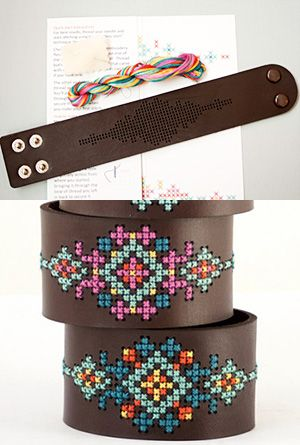cuero: (1, 65, 299, 440)
